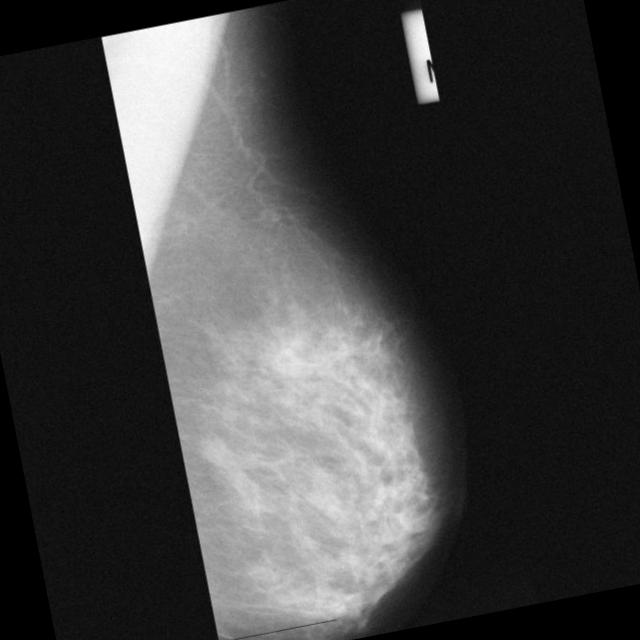ASYM: (200, 432, 233, 467)
